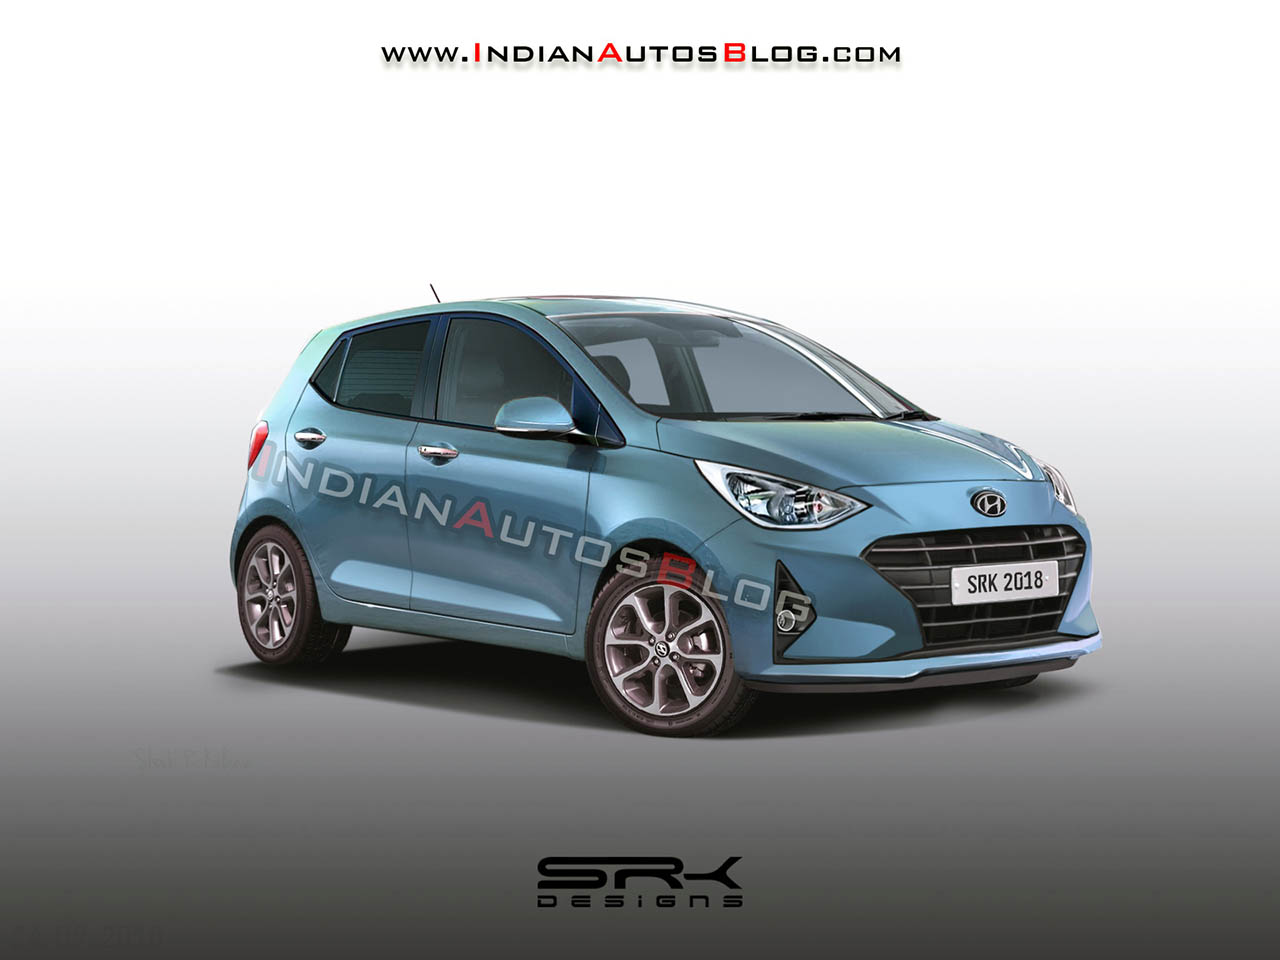i10: (203, 257, 1153, 773)
